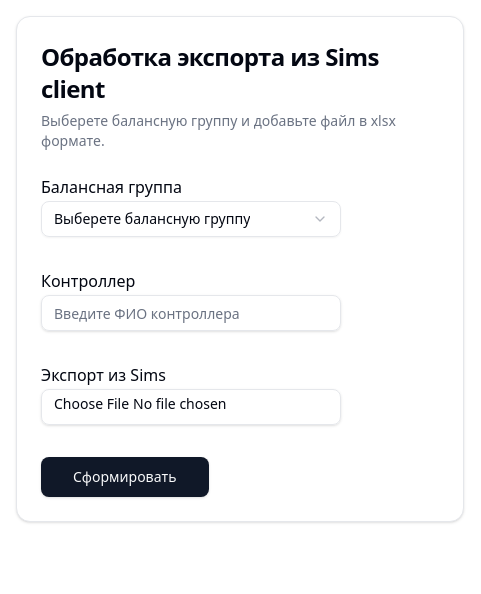
MatritcaExport › shows errors when form input fields are empty
What coordinates should you click on to do the following:
click the button
I would click on:
 (125, 477)
Its box is x1=41 y1=457 x2=208 y2=497.
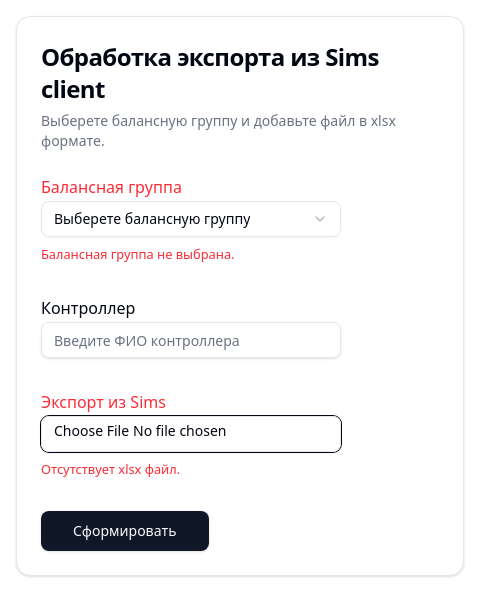
Check: the text "Балансная группа не выбрана." is shown, box x1=41 y1=245 x2=234 y2=263
Check: the text "Отсутствует xlsx файл." is shown, box x1=41 y1=460 x2=180 y2=478
